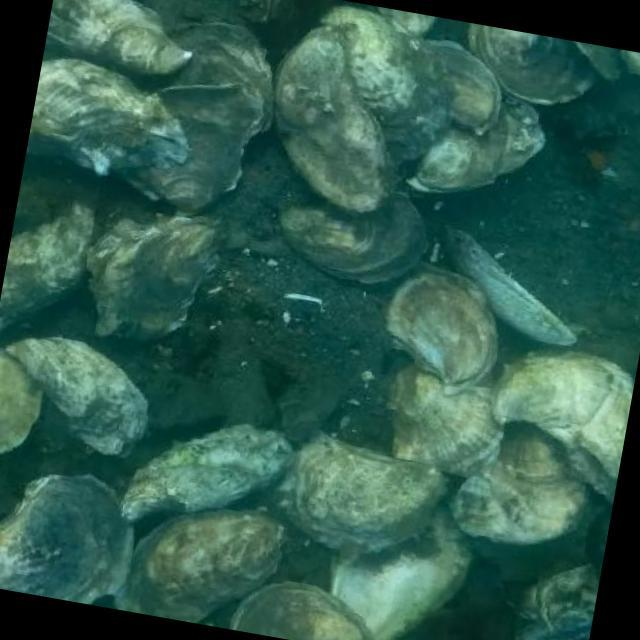Oyster- Indeterminate: (130, 16, 274, 206), (21, 58, 192, 201), (280, 33, 394, 216), (487, 354, 640, 486), (372, 354, 518, 491), (0, 470, 146, 604), (16, 337, 178, 454), (317, 2, 442, 151), (323, 522, 486, 635), (287, 429, 453, 539), (90, 216, 235, 341), (270, 186, 455, 283), (133, 508, 279, 626), (381, 266, 502, 404), (460, 16, 610, 123), (0, 193, 112, 331), (456, 436, 589, 536), (35, 0, 188, 84), (419, 100, 551, 197), (131, 421, 282, 504), (229, 575, 401, 640), (502, 552, 620, 640), (412, 27, 500, 129), (0, 341, 50, 454), (560, 33, 635, 86), (374, 2, 438, 43), (619, 50, 640, 76)
Oyster-Closed: (442, 216, 591, 374)
